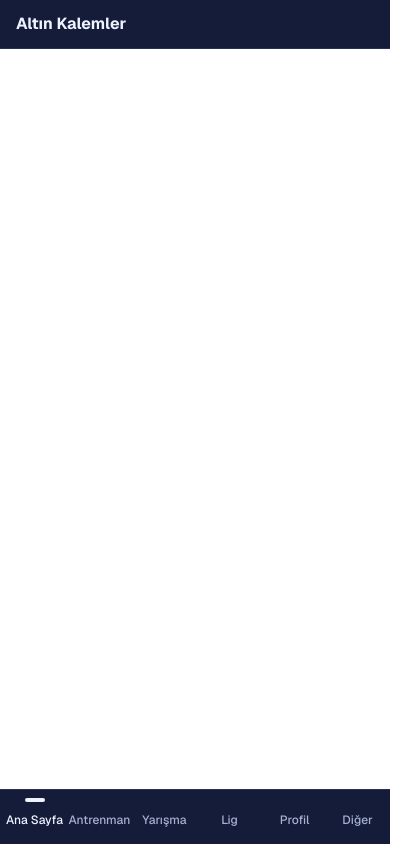
it: StudentNav mobil 'Diğer' menüsü (Faz 12) › menu icindeki baglantiya tiklaninca menü kapanir
Click the button "Diğer" at (358, 817), box [327,794,388,840]
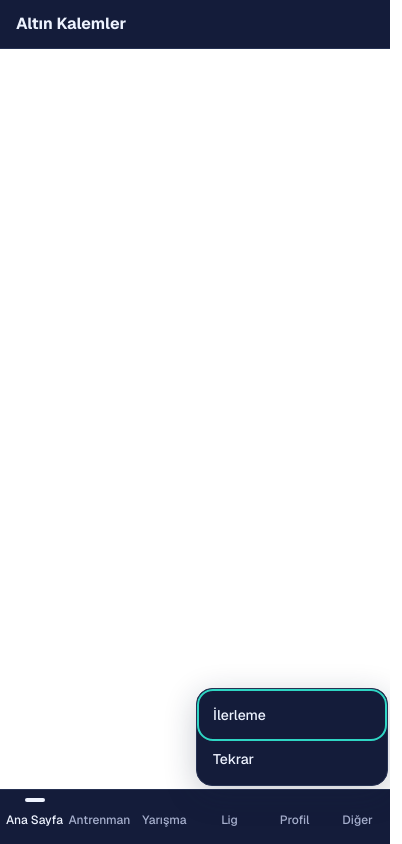
Click the link "İlerleme" at (239, 715), box [213,706,266,724]
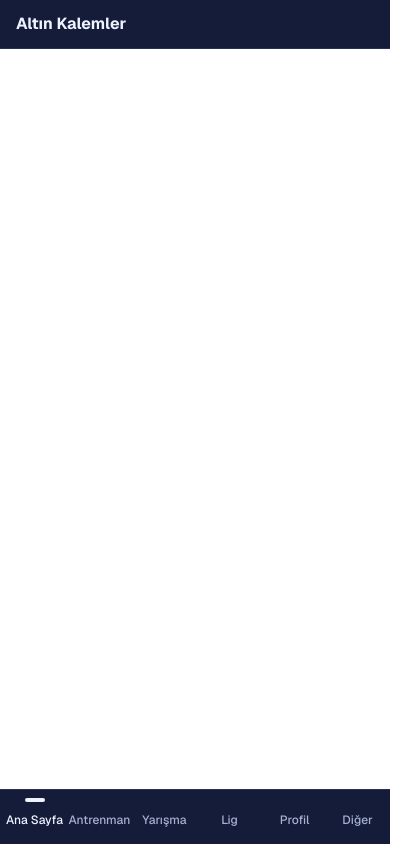
expect the element with id "student-more-menu" is gone: met
